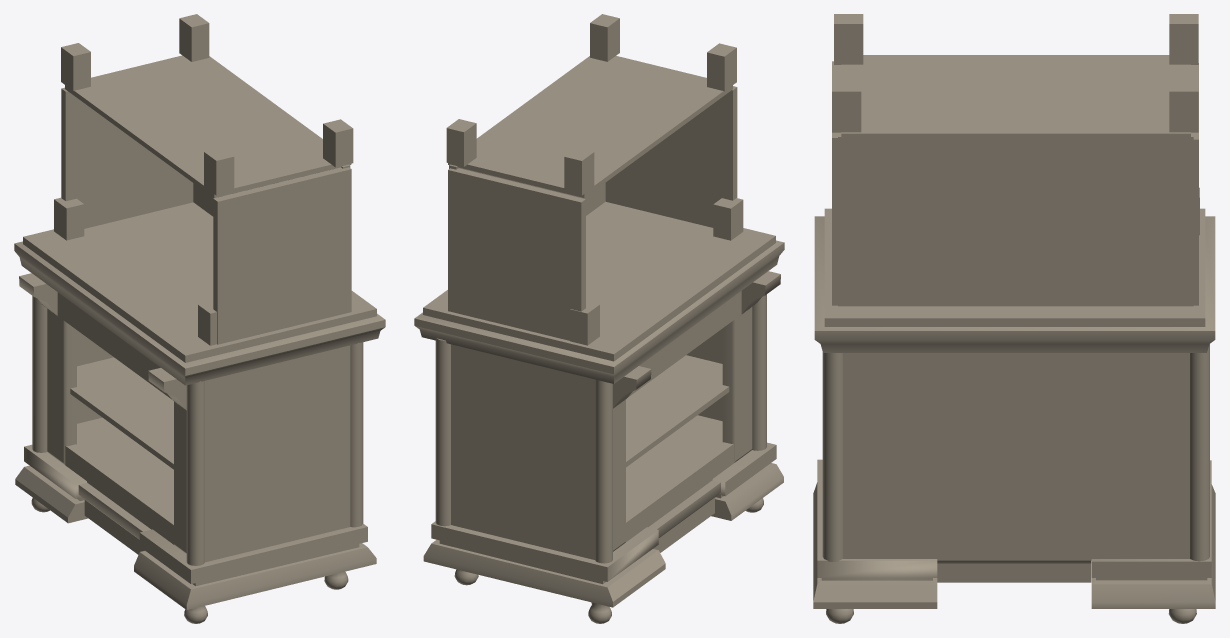
Rendered from Cupboard_04A_Lod0.fbx.
3 views of the same model, side by side, from view 1: azimuth 30°, elevation 25°; view 2: azimuth 150°, elevation 25°; view 3: azimuth 270°, elevation 25° (orthographic). The views are drawn at different scales.
Visible parts, largest first — view 1: Cupboard_04A_Lod0; view 2: Cupboard_04A_Lod0; view 3: Cupboard_04A_Lod0.
Part boxes in pixels (box(x1,y1,x2,y2)): Cupboard_04A_Lod0: box(14, 14, 385, 623); Cupboard_04A_Lod0: box(414, 14, 784, 623); Cupboard_04A_Lod0: box(813, 14, 1215, 623).
Bounding box in the file's own units: 69.85 × 146 × 99.13.
